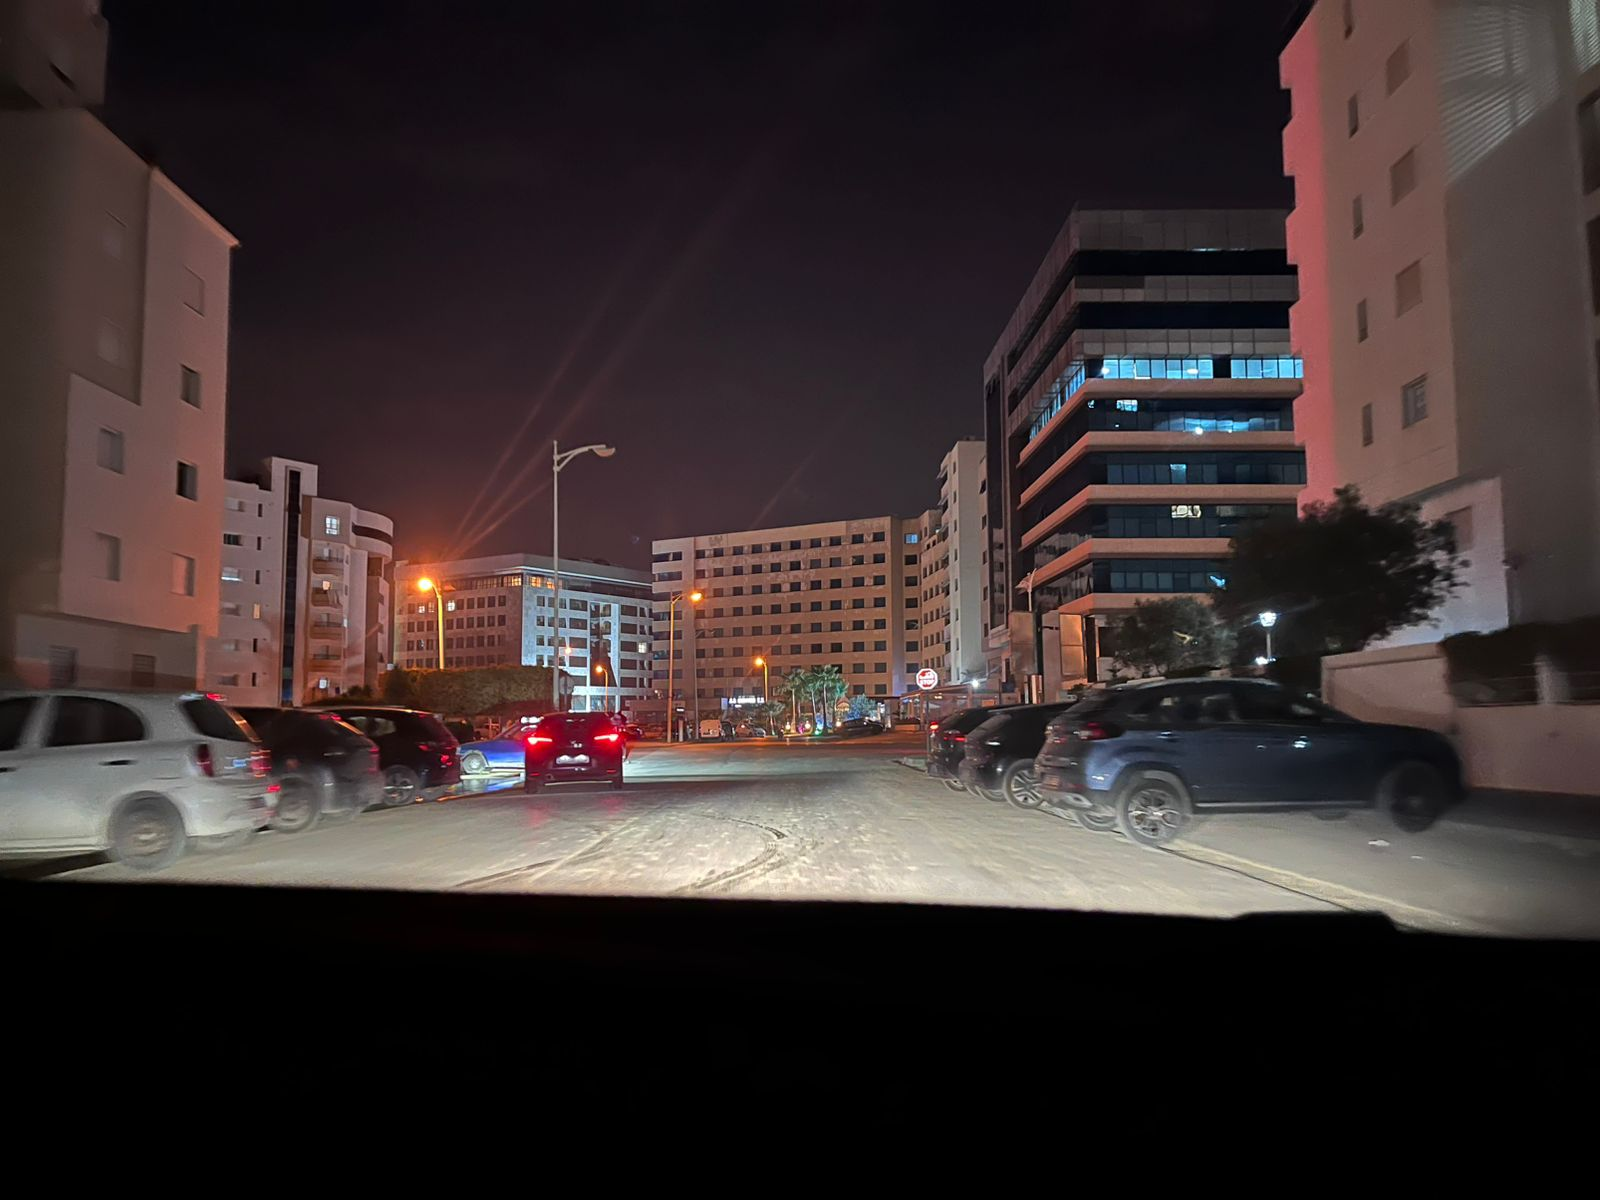Stop: (916, 668, 938, 690)
